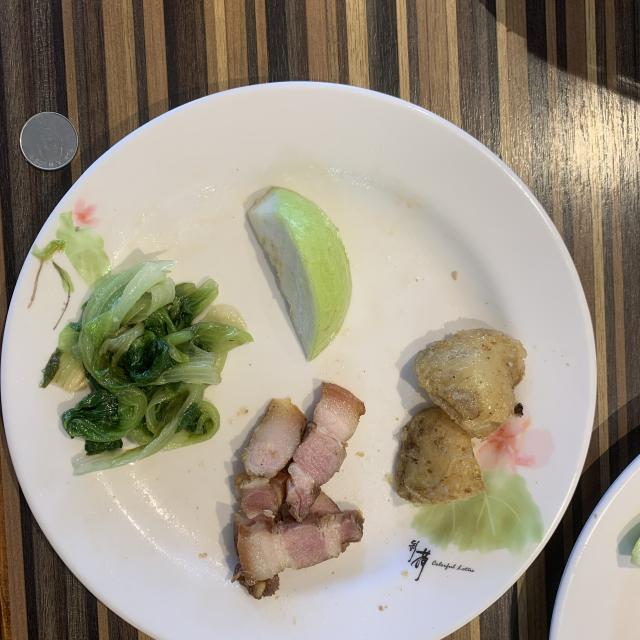coin: (20, 112, 78, 170)
fried potato: (395, 329, 526, 505)
grilled pork: (232, 382, 365, 599)
guava -sliced-: (248, 188, 351, 360)
mustard greens: (41, 260, 252, 474)
